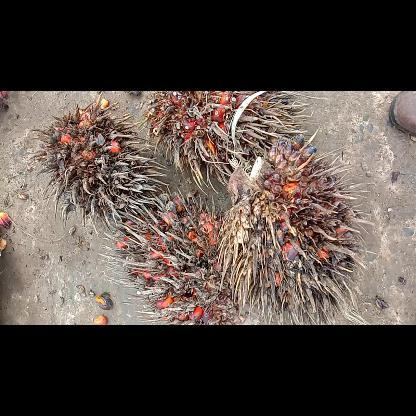Terlalu masak: (213, 132, 371, 324), (22, 95, 172, 240), (98, 186, 250, 324), (138, 90, 328, 198)
